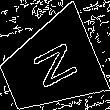N_SW: (22, 38, 78, 95)
